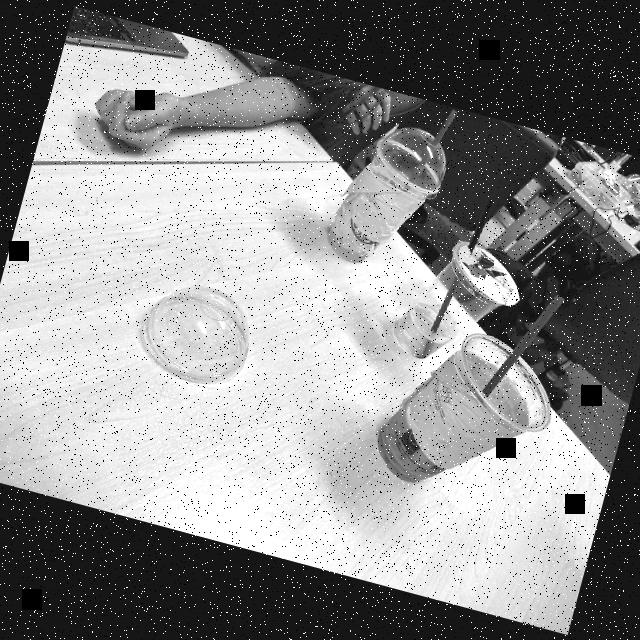plastic_cup: (371, 316, 565, 524), (382, 226, 533, 390), (318, 129, 456, 286)
plastic_cup_lid: (115, 263, 268, 411), (368, 116, 452, 207)
straw: (475, 284, 566, 422), (425, 198, 497, 354), (406, 100, 456, 190)
